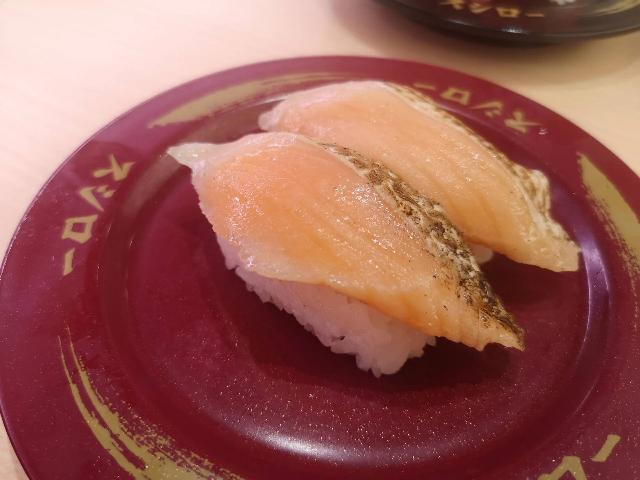janback: (365, 0, 640, 51)
janred: (15, 66, 640, 480)
